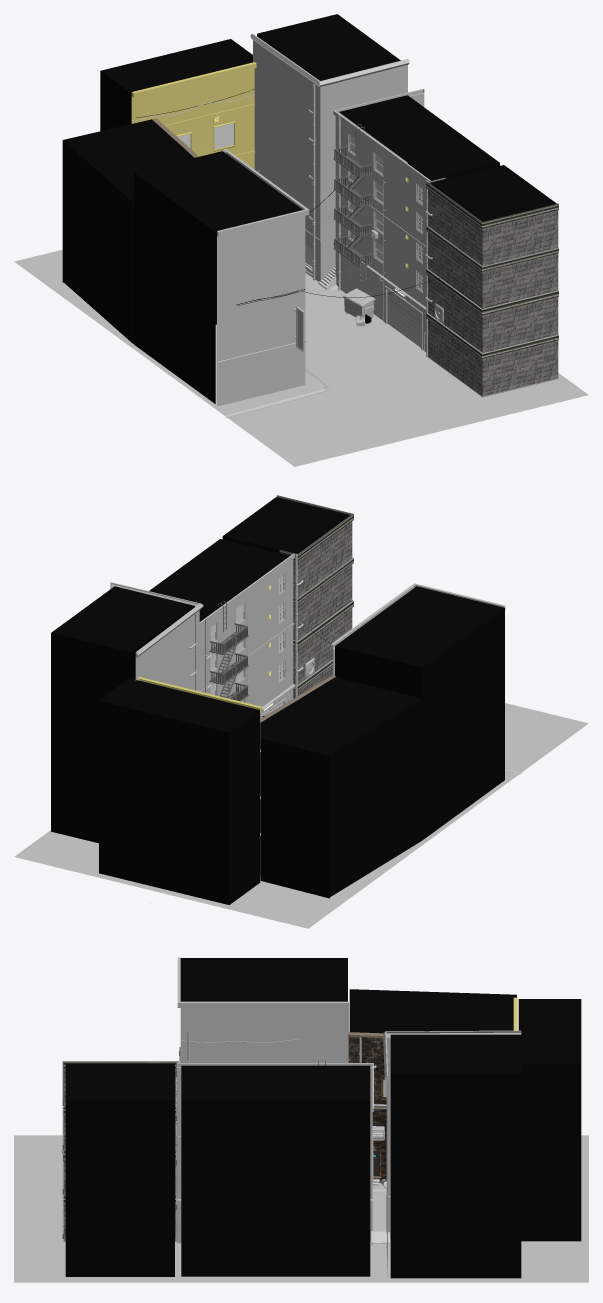
The model's file is ally (1).fbx.
3 renders of one model, top to bottom at view 1: azimuth 30°, elevation 25°; view 2: azimuth 150°, elevation 25°; view 3: azimuth 270°, elevation 25°, orthographic. The views are drawn at different scales.
Parts seen in each view (by area): view 1: Cube.002, b6, Cube, b1, Cube.016, b4, b5, b3, Cube.036, Cube.038, Cube.031, Cube.017 (+2 smaller); view 2: Cube.038, Cube.016, Cube, Cube.031, Cube.002, b5, b6, Cube.036, Cube.017, b4, b1, b3; view 3: Cube.036, Cube.031, Cube.017, Cube.002, Cube.038, b1, Cube, Cube.016, b2, b5, b4, b6.
Boxes of the visible parts, x1=… form: Cube.002: x1=14, y1=249, x2=588, y2=466; b6: x1=426, y1=177, x2=558, y2=397; Cube: x1=134, y1=151, x2=302, y2=403; b1: x1=217, y1=148, x2=309, y2=406; Cube.016: x1=62, y1=119, x2=194, y2=343; b4: x1=250, y1=33, x2=409, y2=281; b5: x1=333, y1=88, x2=430, y2=351; b3: x1=131, y1=62, x2=256, y2=169; Cube.036: x1=339, y1=95, x2=499, y2=180; Cube.038: x1=100, y1=39, x2=252, y2=131; Cube.031: x1=257, y1=14, x2=400, y2=80; Cube.017: x1=431, y1=165, x2=556, y2=221; Cube.038: x1=99, y1=679, x2=259, y2=904; Cube.016: x1=260, y1=677, x2=422, y2=898; Cube: x1=335, y1=586, x2=504, y2=839; Cube.031: x1=51, y1=586, x2=194, y2=843; Cube.002: x1=14, y1=703, x2=588, y2=928; b5: x1=199, y1=553, x2=295, y2=718; b6: x1=276, y1=495, x2=353, y2=698; Cube.036: x1=149, y1=539, x2=288, y2=621; Cube.017: x1=222, y1=497, x2=348, y2=553; b4: x1=110, y1=582, x2=203, y2=691; b1: x1=330, y1=583, x2=505, y2=781; b3: x1=137, y1=677, x2=262, y2=882; Cube.036: x1=181, y1=1065, x2=370, y2=1276; Cube.031: x1=390, y1=1034, x2=521, y2=1278; Cube.017: x1=65, y1=1064, x2=174, y2=1276; Cube.002: x1=14, y1=1135, x2=588, y2=1282; Cube.038: x1=518, y1=999, x2=581, y2=1241; b1: x1=177, y1=957, x2=348, y2=1062; Cube: x1=180, y1=958, x2=347, y2=1001; Cube.016: x1=349, y1=989, x2=516, y2=1033; b2: x1=348, y1=1032, x2=386, y2=1182; b5: x1=177, y1=1063, x2=373, y2=1243; b4: x1=383, y1=1030, x2=521, y2=1276; b6: x1=62, y1=1061, x2=176, y2=1241.
Size of the model in its own units: 690 by 480 by 1099.
